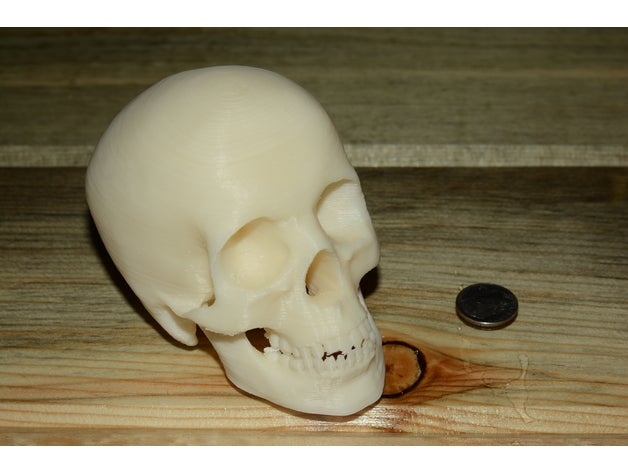Good: (59, 64, 429, 422)
